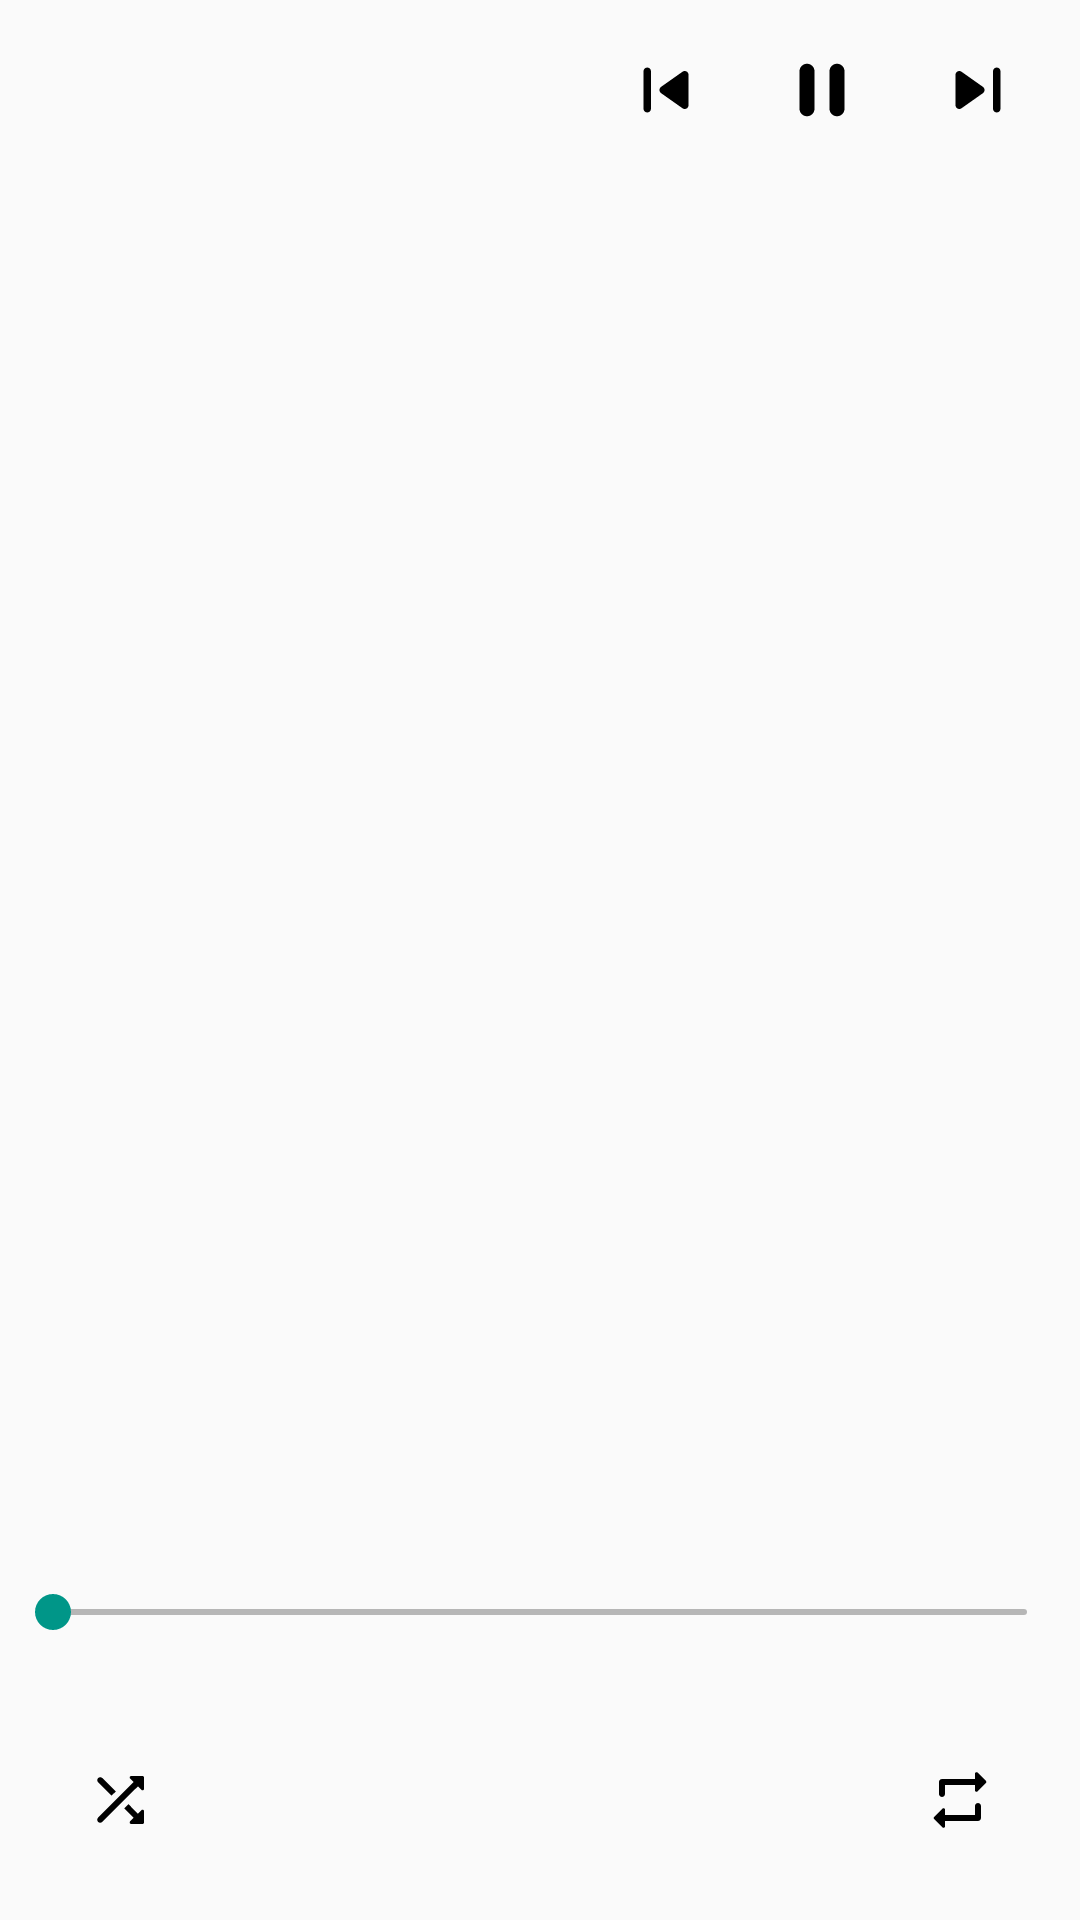

Point at icon controls on the screen. Image size 1080w x 1920h, points as [x,y].
Next track: [978,90]
pause: [822,90]
Previous track: [666,90]
Repeat mode menu: [960,1800]
Shuffle mode: [120,1800]
